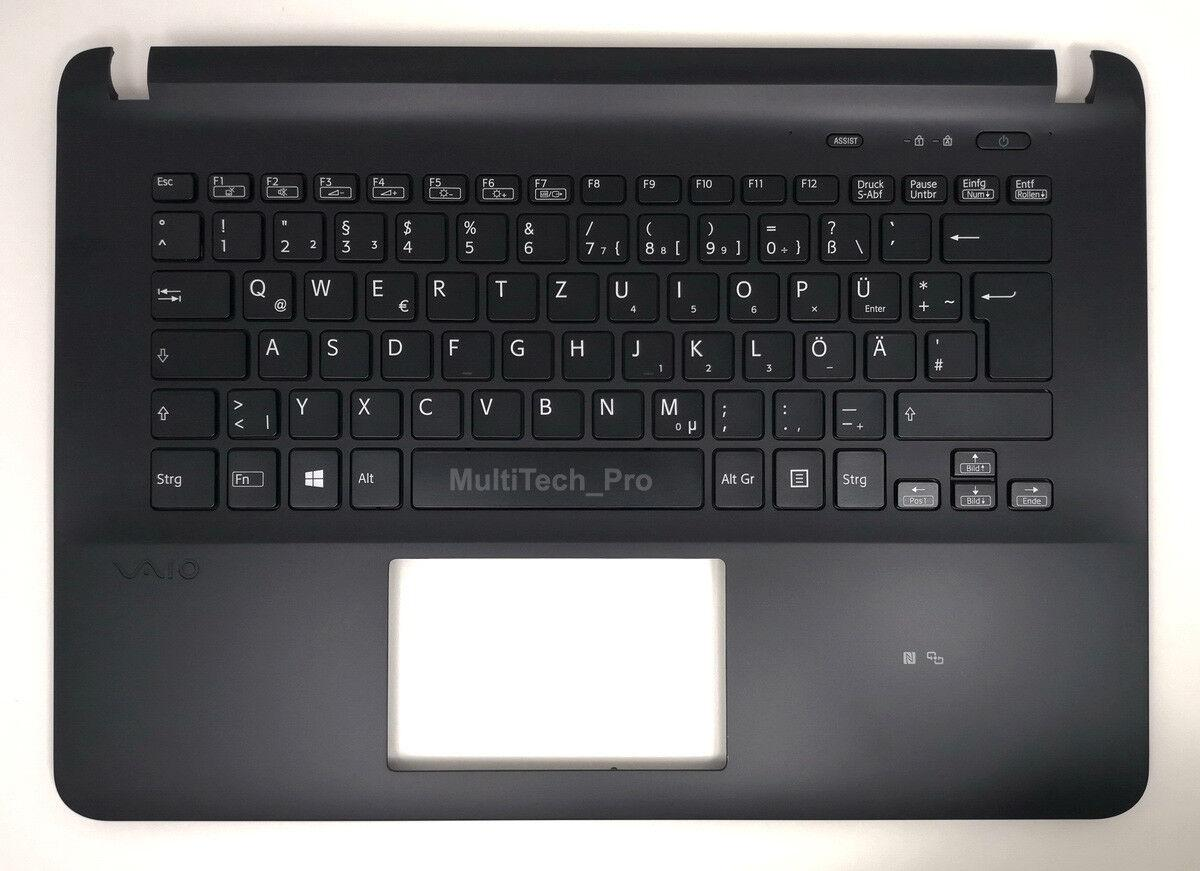0: (754, 209, 808, 261)
1: (208, 209, 261, 259)
2: (269, 207, 323, 259)
3: (329, 208, 384, 260)
4: (392, 209, 444, 260)
5: (452, 209, 505, 260)
6: (513, 210, 566, 260)
7: (573, 210, 627, 261)
8: (633, 209, 686, 261)
9: (694, 209, 747, 261)
a: (254, 326, 307, 377)
accent: (877, 209, 929, 259)
ae: (860, 327, 914, 379)
alt-left: (346, 445, 398, 508)
altgr-right: (709, 445, 762, 508)
b: (526, 385, 581, 437)
c: (407, 385, 459, 437)
caret: (147, 207, 198, 258)
comma: (708, 385, 761, 437)
d: (376, 326, 429, 378)
del: (937, 209, 1050, 260)
e: (361, 267, 414, 320)
enter: (968, 268, 1051, 378)
f: (437, 326, 490, 378)
g: (497, 326, 549, 378)
h: (557, 326, 610, 378)
hash: (922, 326, 973, 378)
i: (663, 268, 716, 320)
j: (618, 326, 670, 379)
k: (678, 326, 731, 378)
keyboard: (114, 139, 1077, 532)
l: (739, 326, 791, 379)
less: (223, 383, 276, 437)
m: (647, 384, 701, 438)
minus: (829, 385, 883, 437)
n: (587, 385, 641, 437)
o: (723, 268, 776, 320)
oe: (799, 326, 851, 378)
p: (783, 268, 837, 320)
plus: (906, 267, 959, 319)
point: (768, 385, 821, 437)
q: (238, 266, 293, 319)
r: (422, 268, 475, 320)
s: (315, 326, 368, 378)
shift-left: (145, 384, 214, 437)
shift-lock: (146, 324, 244, 377)
shift-right: (890, 385, 1050, 437)
space: (404, 442, 704, 509)
ss: (815, 209, 868, 260)
strg-left: (143, 443, 214, 508)
strg-right: (830, 445, 884, 508)
t: (483, 268, 535, 319)
tab: (146, 265, 228, 318)
u: (603, 269, 656, 321)
ue: (844, 267, 900, 321)
v: (468, 385, 520, 437)
w: (299, 266, 352, 319)
x: (346, 385, 398, 437)
y: (285, 385, 338, 437)
z: (543, 268, 596, 321)
